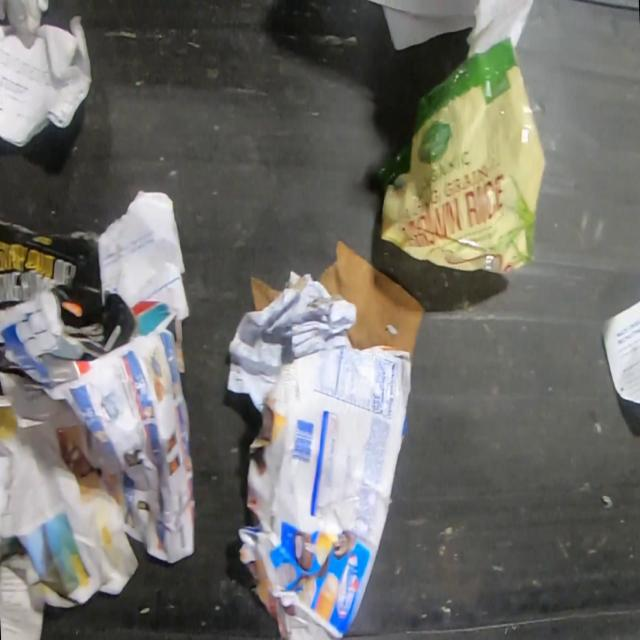cardboard: (240, 344, 412, 640), (319, 242, 424, 353)
soft_plastic: (380, 27, 546, 275)
